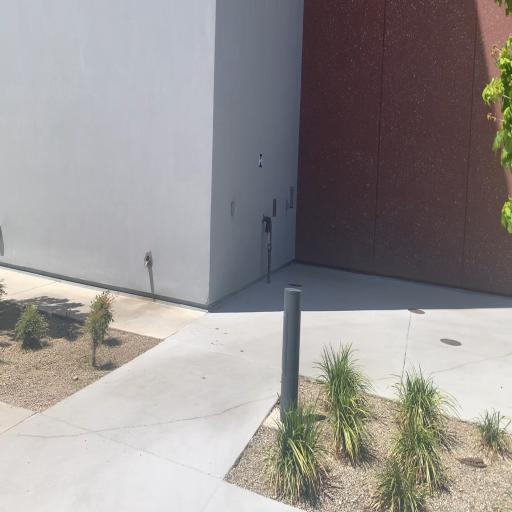target3: (259, 153, 262, 169)
